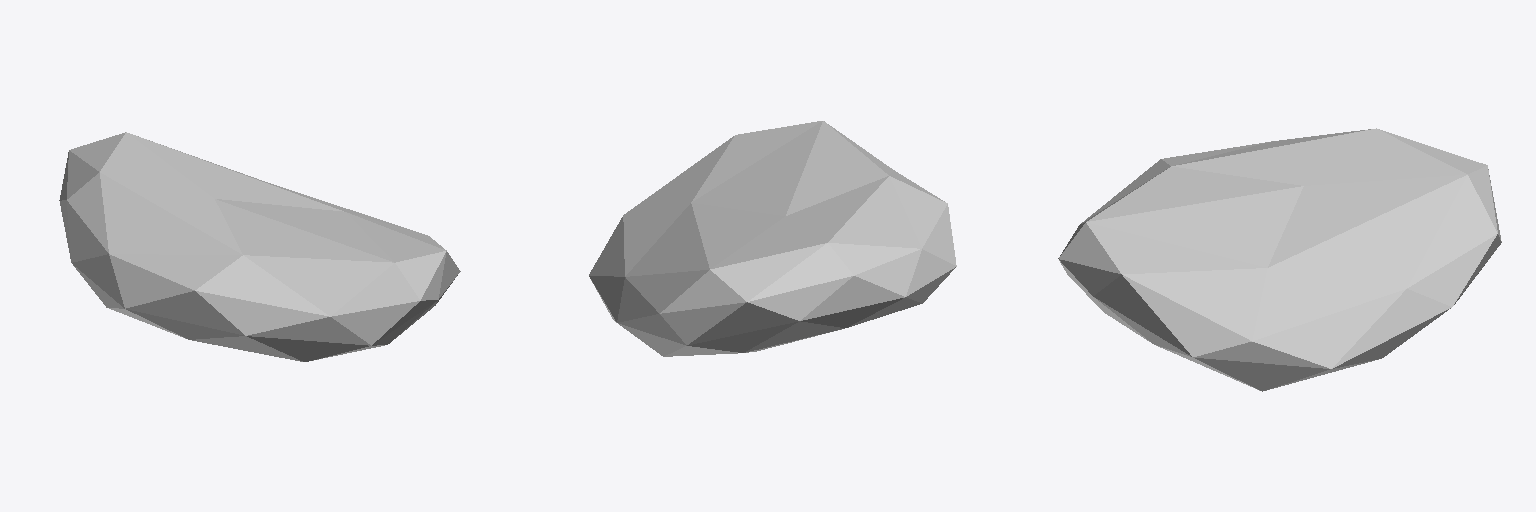
Rendered from rock_0.obj.
3 renders of one model, left to right at view 1: azimuth 30°, elevation 25°; view 2: azimuth 150°, elevation 25°; view 3: azimuth 270°, elevation 25°, orthographic.
Visible parts, largest first — view 1: rock_0; view 2: rock_0; view 3: rock_0.
Boxes of the visible parts, x1=… form: rock_0: x1=59, y1=132, x2=460, y2=361; rock_0: x1=589, y1=121, x2=956, y2=356; rock_0: x1=1058, y1=128, x2=1501, y2=391.
Bounding box in the file's own units: 2.26 × 1 × 2.69.